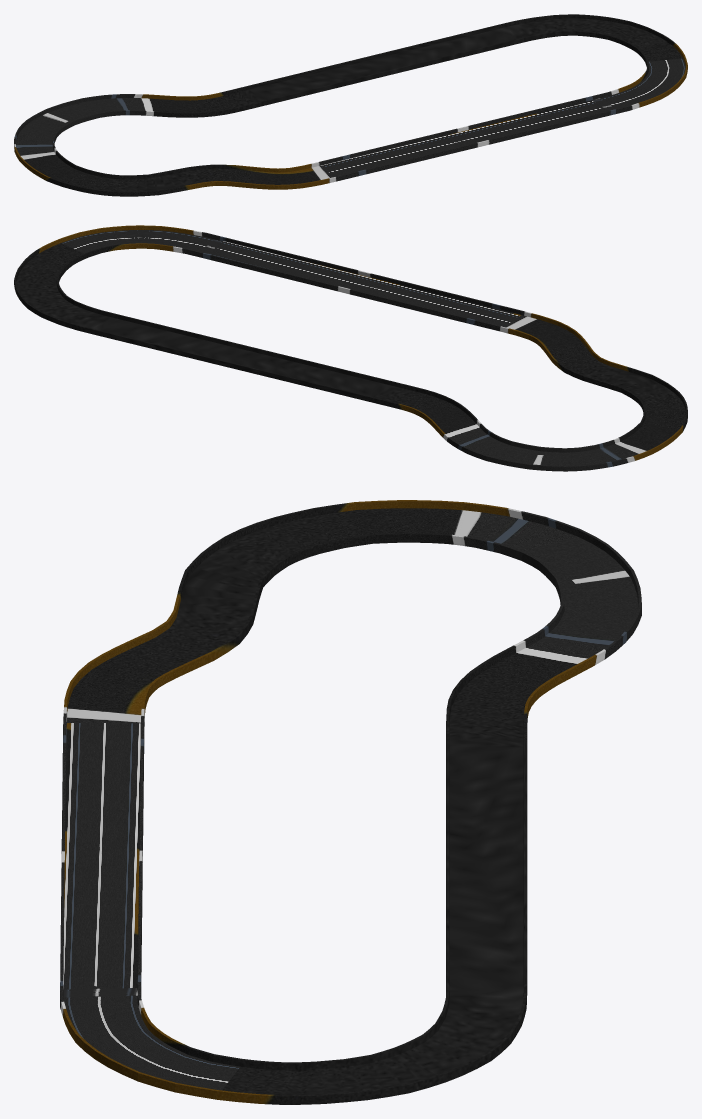
Rendered from track11.obj.
3 renders of one model, top to bottom at view 1: azimuth 30°, elevation 25°; view 2: azimuth 150°, elevation 25°; view 3: azimuth 270°, elevation 25°, orthographic. The views are drawn at different scales.
Parts seen in each view (by area): view 1: track_Cube; view 2: track_Cube; view 3: track_Cube.
Part boxes in pixels (x1=…): track_Cube: x1=14, y1=14, x2=687, y2=196; track_Cube: x1=14, y1=225, x2=687, y2=471; track_Cube: x1=60, y1=500, x2=641, y2=1104.
Bounding box in the file's own units: 305 × 2 × 126.
1 material, 1 textured.
